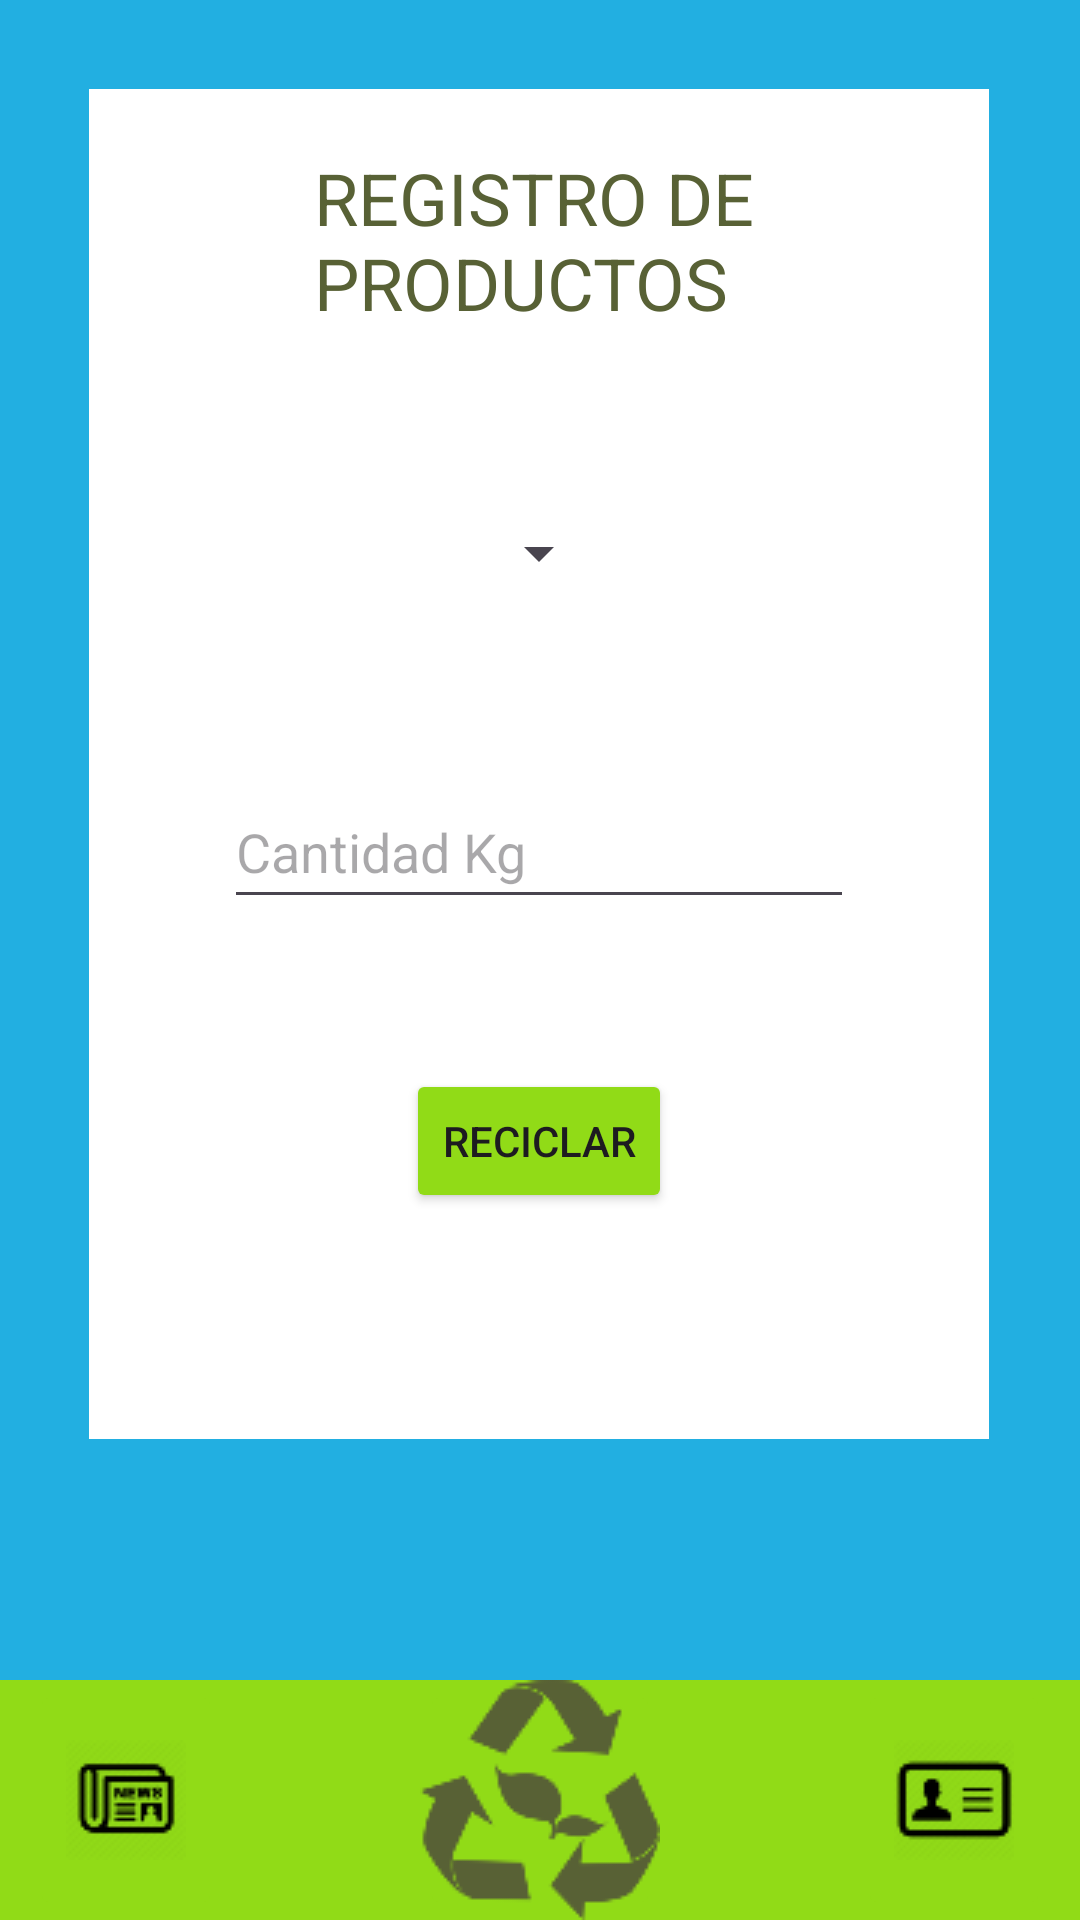

Screen size 1080x1920. Icon name, then its center in pixels as (x=x, y=y):
perfil: (x=954, y=1800)
